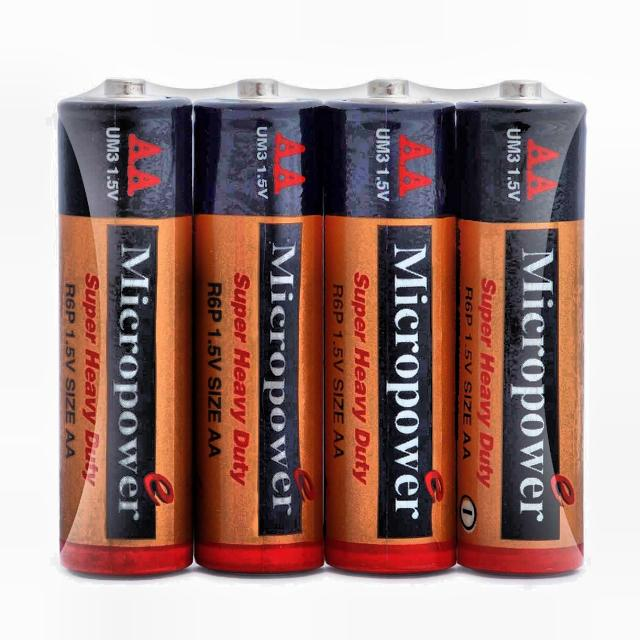Non-Valuable Waste - Batteries: (59, 80, 192, 575), (324, 80, 455, 574), (194, 81, 324, 573), (456, 82, 585, 574)
